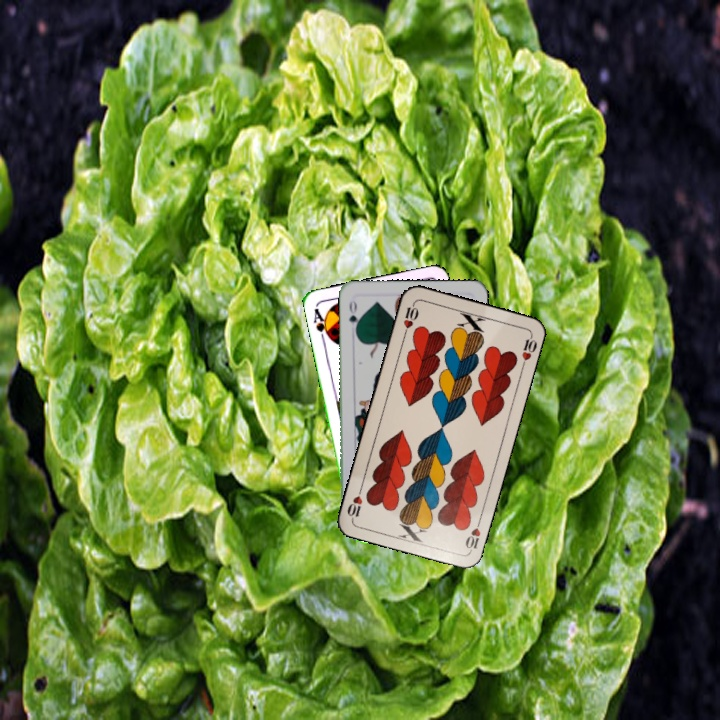GO: (345, 297, 362, 336)
H10: (461, 514, 484, 554), (399, 299, 421, 339)
SA: (310, 304, 333, 344)
